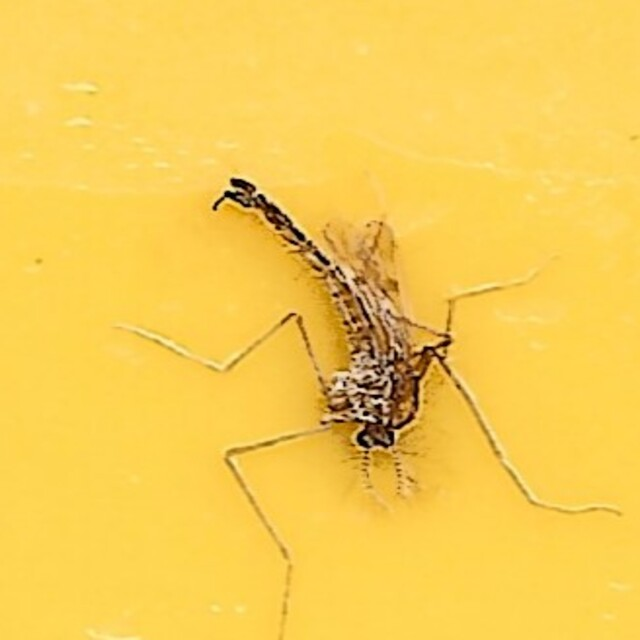Nematocera: (195, 166, 445, 474)
